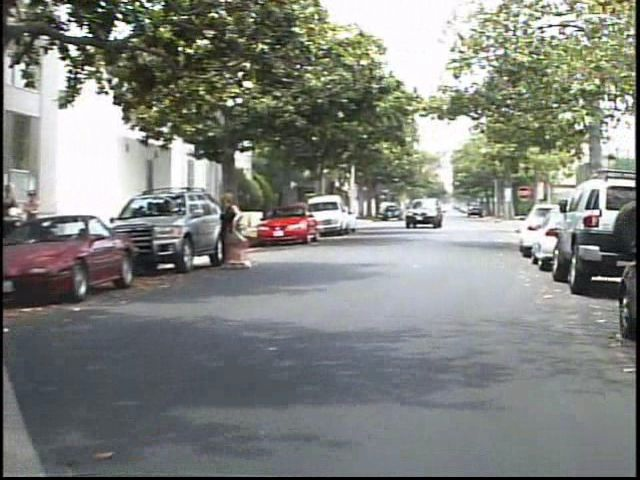person: (224, 189, 258, 276), (35, 183, 72, 250)
